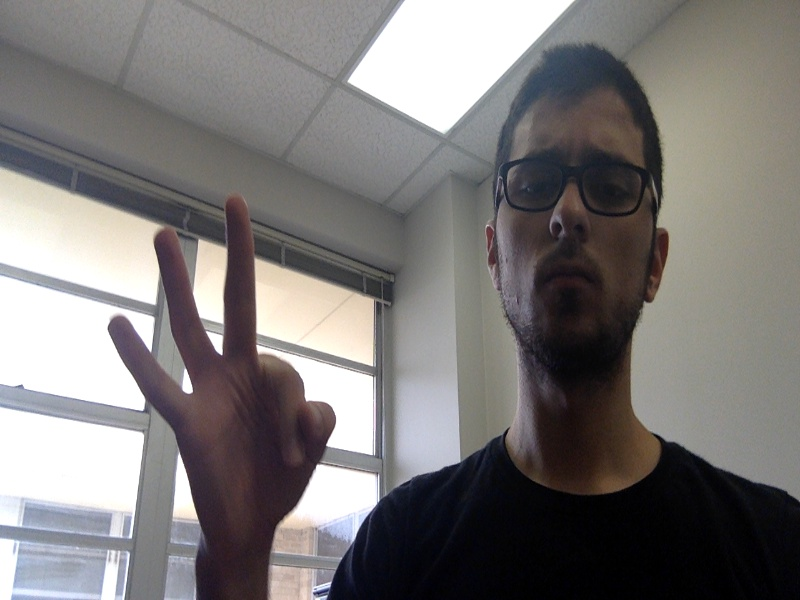3-hand: (109, 198, 336, 552)
